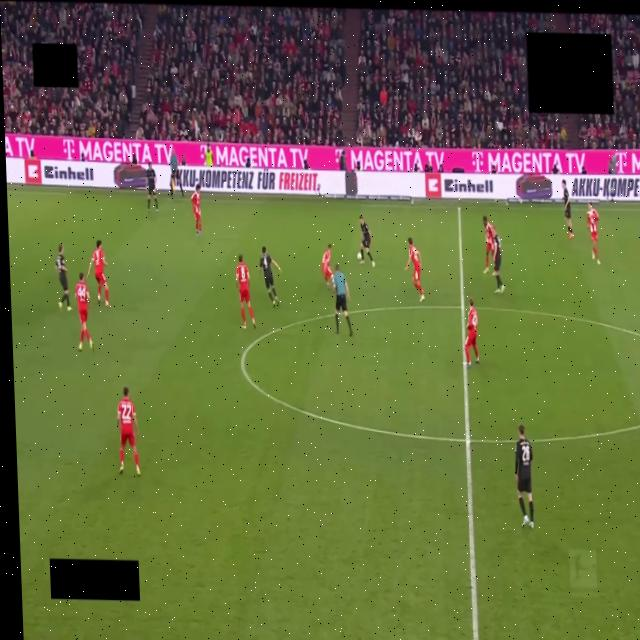ball: (357, 253, 361, 260)
player: (117, 386, 139, 475), (515, 425, 534, 528), (236, 254, 256, 329), (87, 240, 109, 306), (75, 274, 93, 352), (259, 247, 282, 307), (406, 238, 424, 301), (464, 298, 479, 368), (56, 244, 71, 311), (359, 216, 375, 267), (587, 203, 600, 264), (483, 217, 495, 274), (493, 233, 504, 293), (562, 180, 573, 239), (146, 163, 158, 214), (191, 184, 201, 235), (321, 244, 332, 289)
referee: (333, 264, 352, 336)
